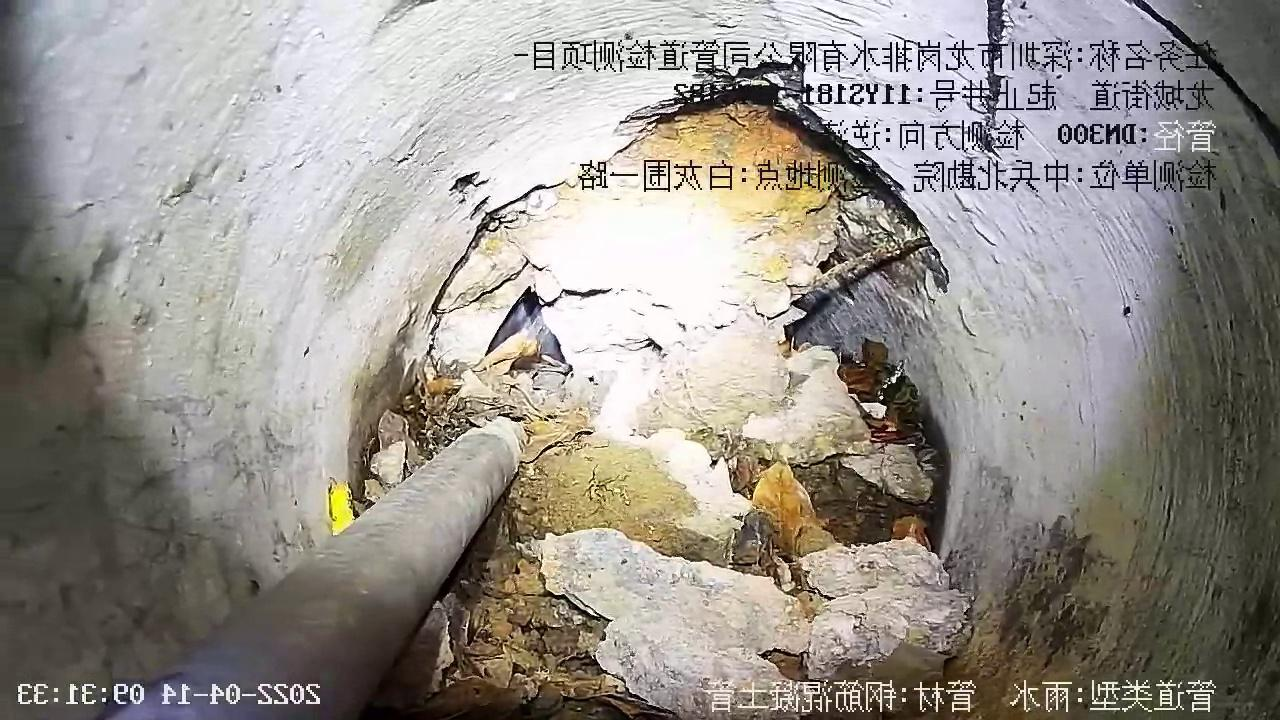PL: (412, 44, 973, 329)
YWCR: (97, 418, 523, 719)
